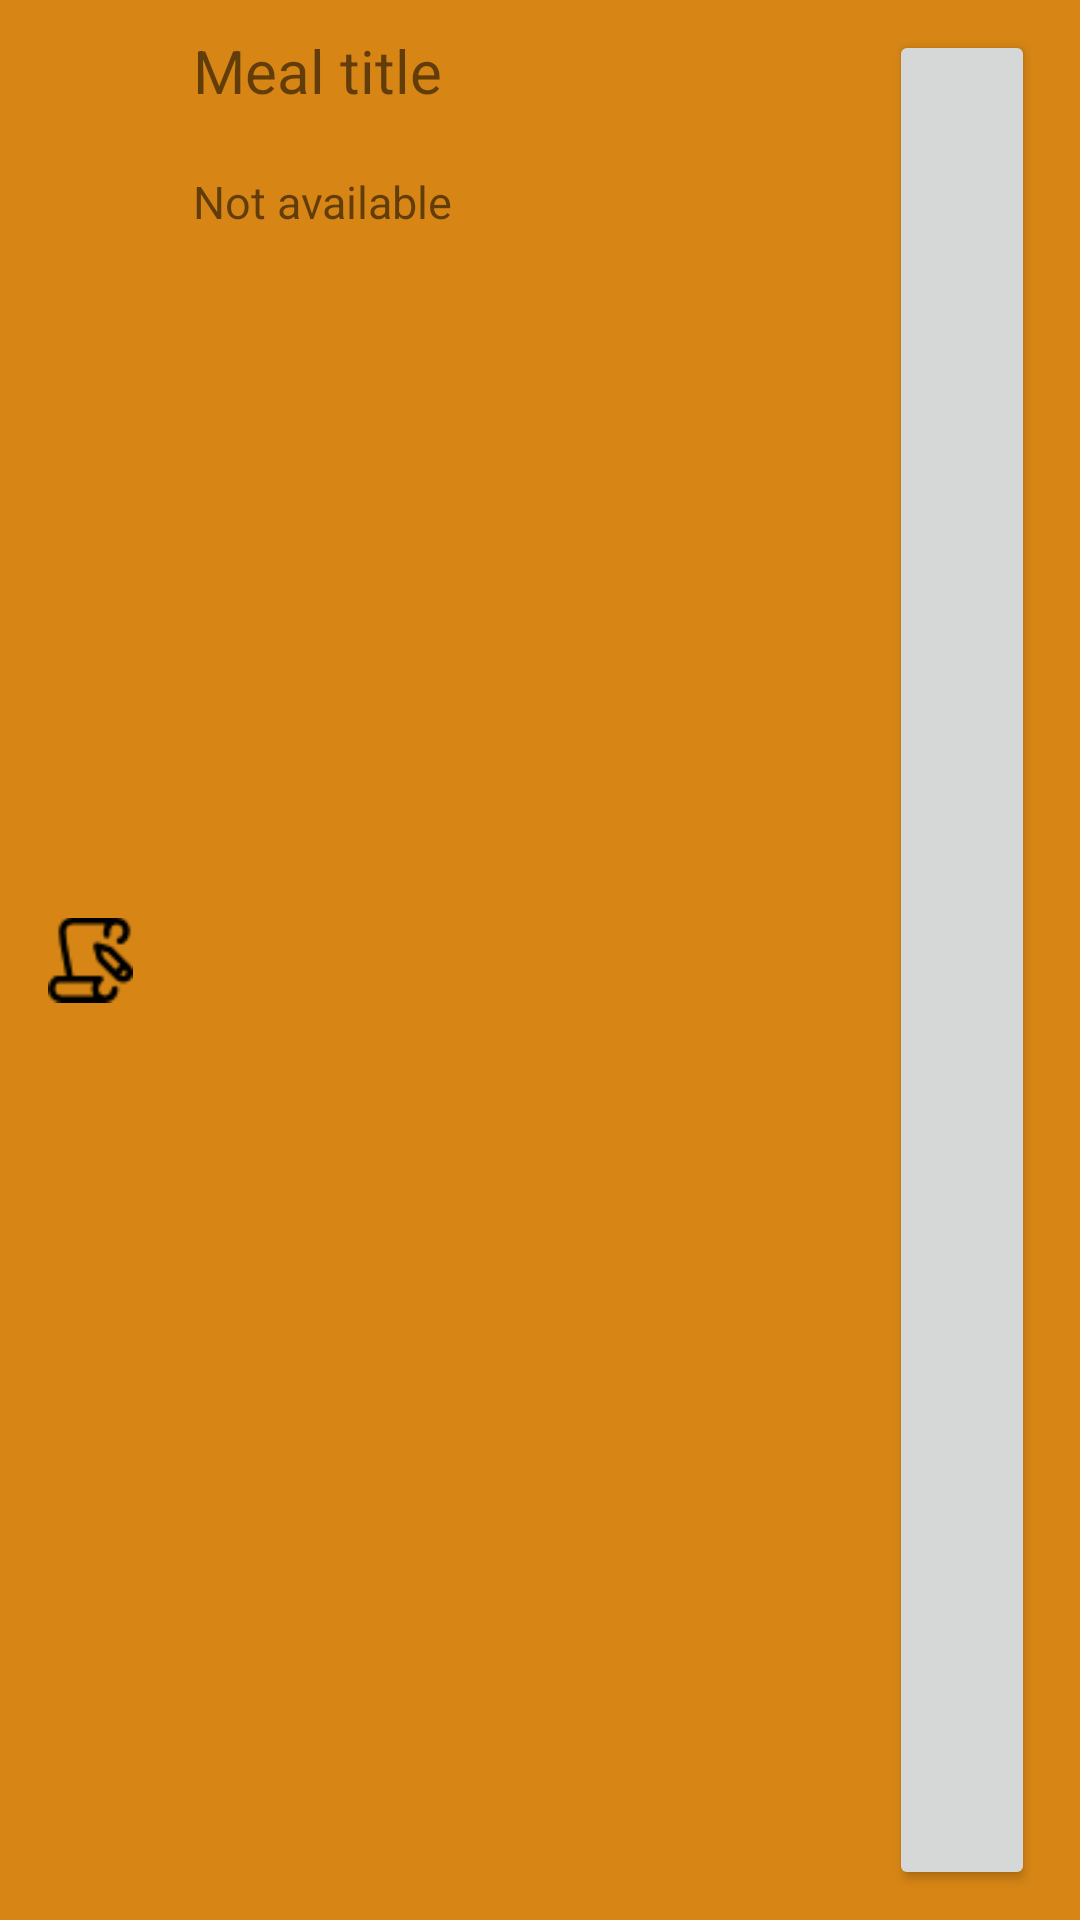

Icons on this 1080x1920 Android screen, each with the point to tap as (x,y):
task: (90,960)
